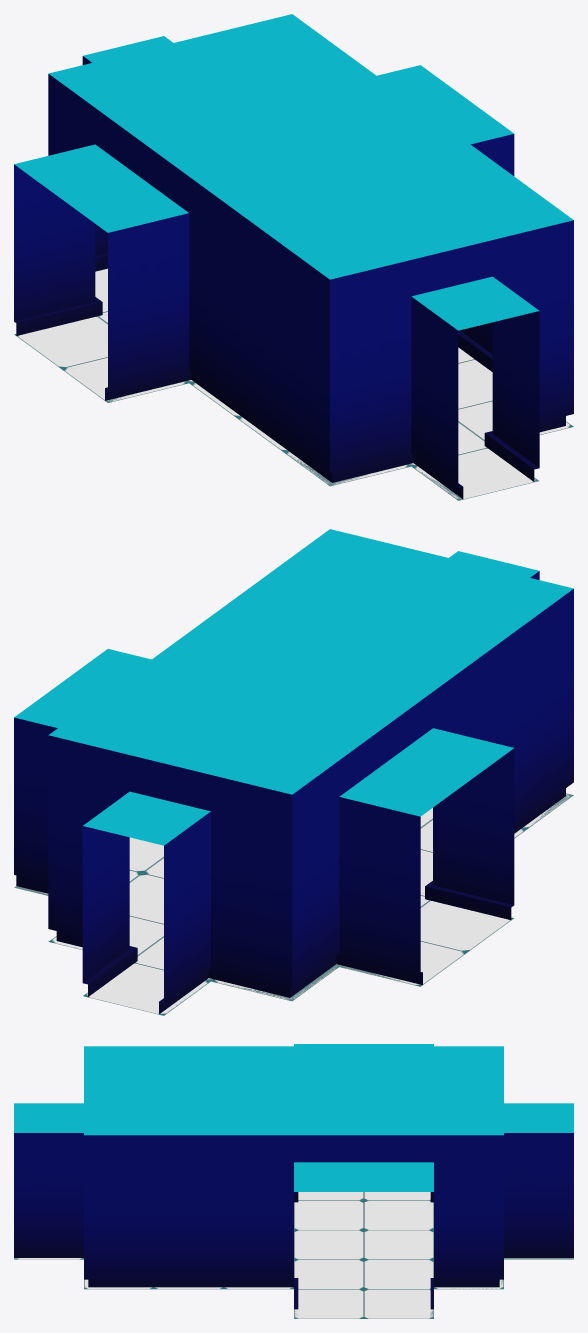
Rendered from Corredor2SaidasG1SaidaP.fbx.
The picture shows the model from 3 angles, top to bottom: view 1: azimuth 30°, elevation 25°; view 2: azimuth 150°, elevation 25°; view 3: azimuth 270°, elevation 25°; orthographic projection. The views are drawn at different scales.
Visible parts, largest first — view 1: Corredor2SaidasG1SaidaP; view 2: Corredor2SaidasG1SaidaP; view 3: Corredor2SaidasG1SaidaP.
Part boxes in pixels (x1,y1,x2,y2): Corredor2SaidasG1SaidaP: (14,14,573,500); Corredor2SaidasG1SaidaP: (14,529,573,1015); Corredor2SaidasG1SaidaP: (14,1044,573,1318).
Bounding box in the file's own units: 500 × 243 × 800.
Materials: 1 (1 with a texture image).
